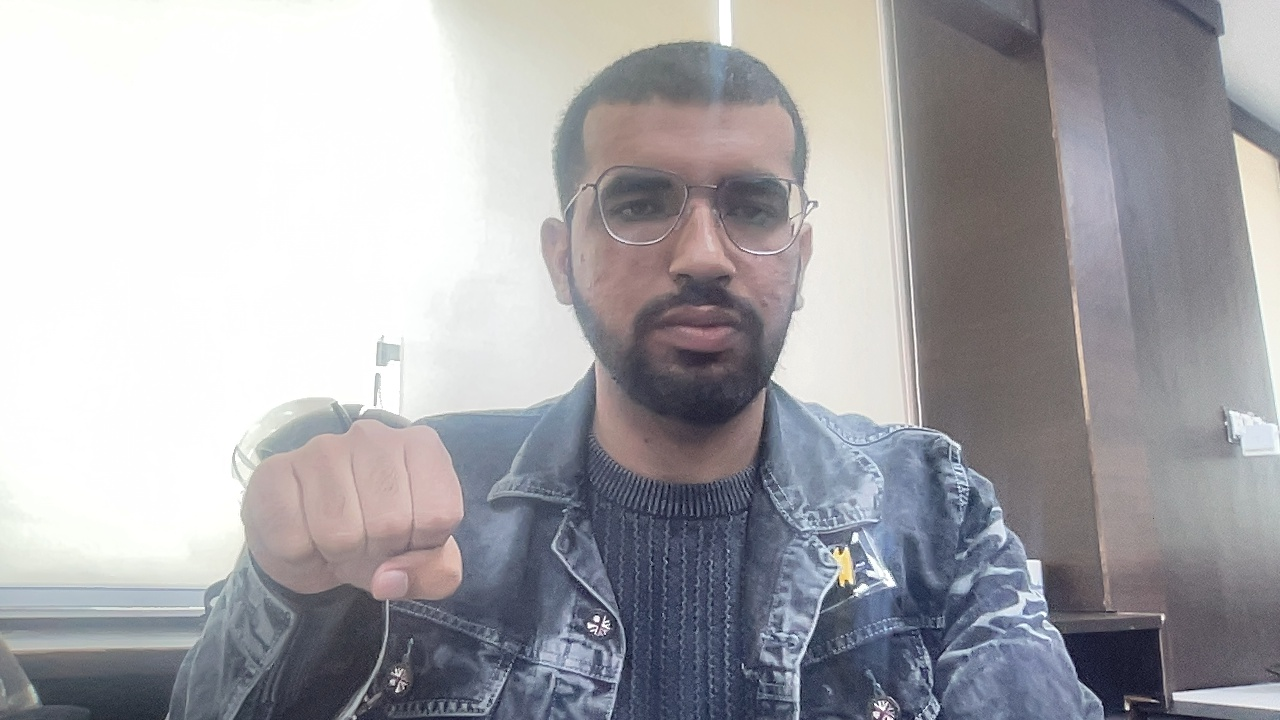Yes: (156, 417, 515, 623)
